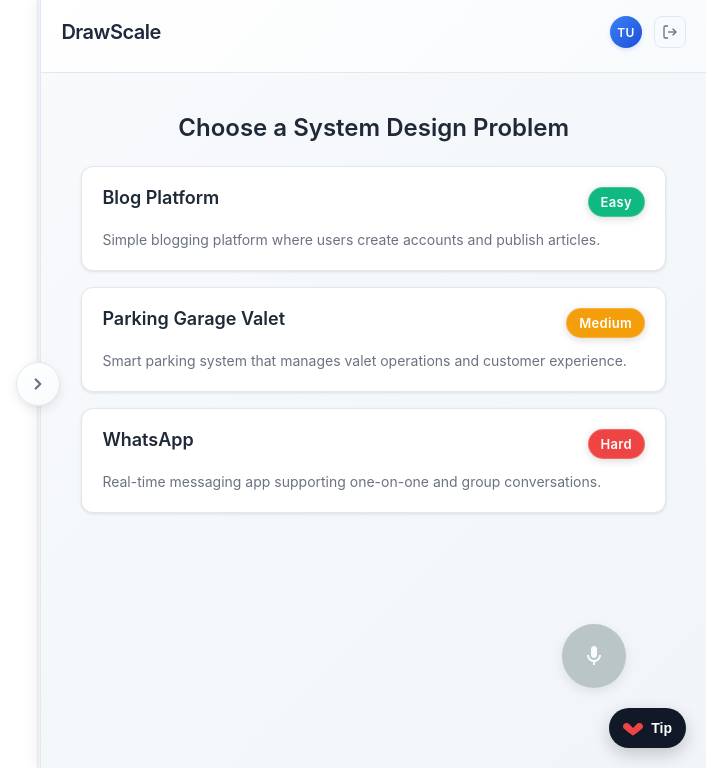
Test: Component Interaction Tests › Drawer Toggle Functionality › updates toggle button aria-label when drawer state changes
This screenshot has width=718, height=768.
Click to close drawer
Step 1. Click the button named "hide instructions" → (38,384), box [16, 362, 60, 406]
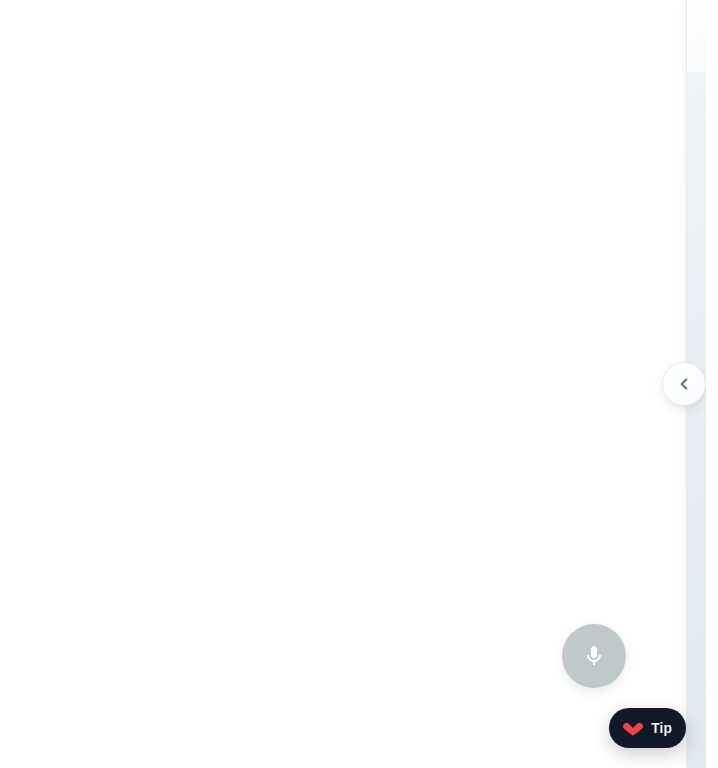
Result: the button named "show instructions" is shown at [662, 362, 706, 406]
